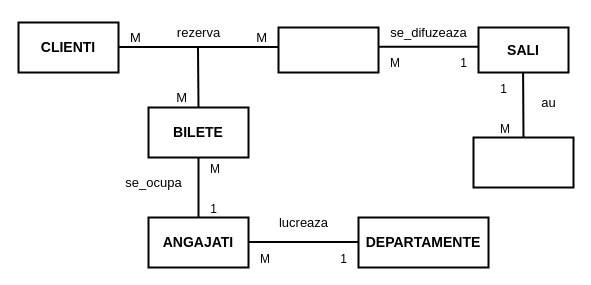
Some shapes in this 591 by 285 pixel diagram are drawn without their labels. Each missing label, with the centre of its shape:
"FILME" belongs at point (328, 49).
"PROGRAM" belongs at point (523, 162).
